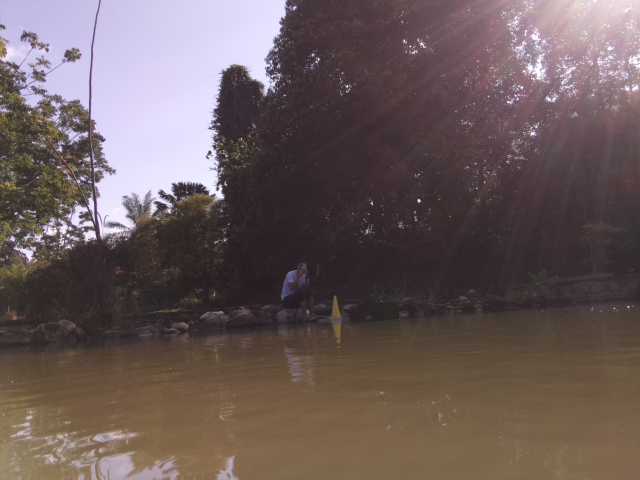checkpoint: (325, 293, 345, 324)
obstacle: (369, 300, 402, 323)
